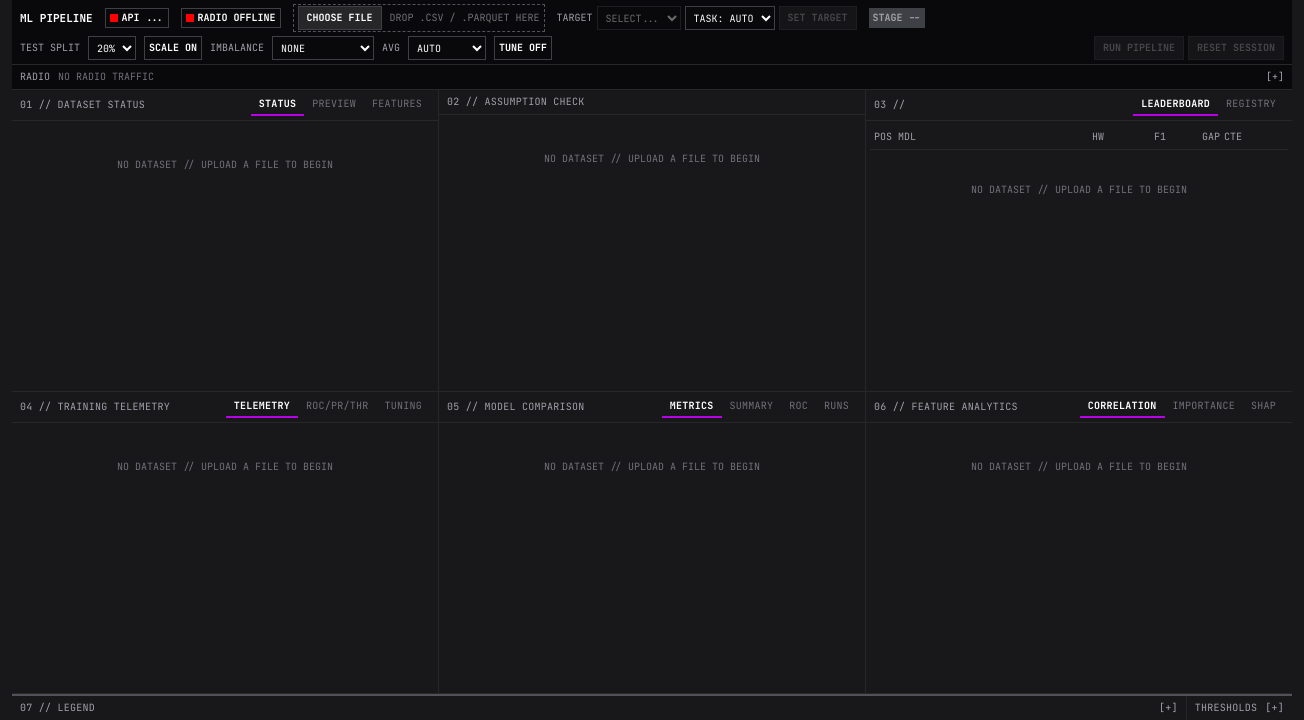
Test: empty dashboard › tuning is off by default and reveals a trials picker when switched on
The image size is (1304, 720).
Click the button with test id "opt-tune": (523, 48) [494,36,552,60]
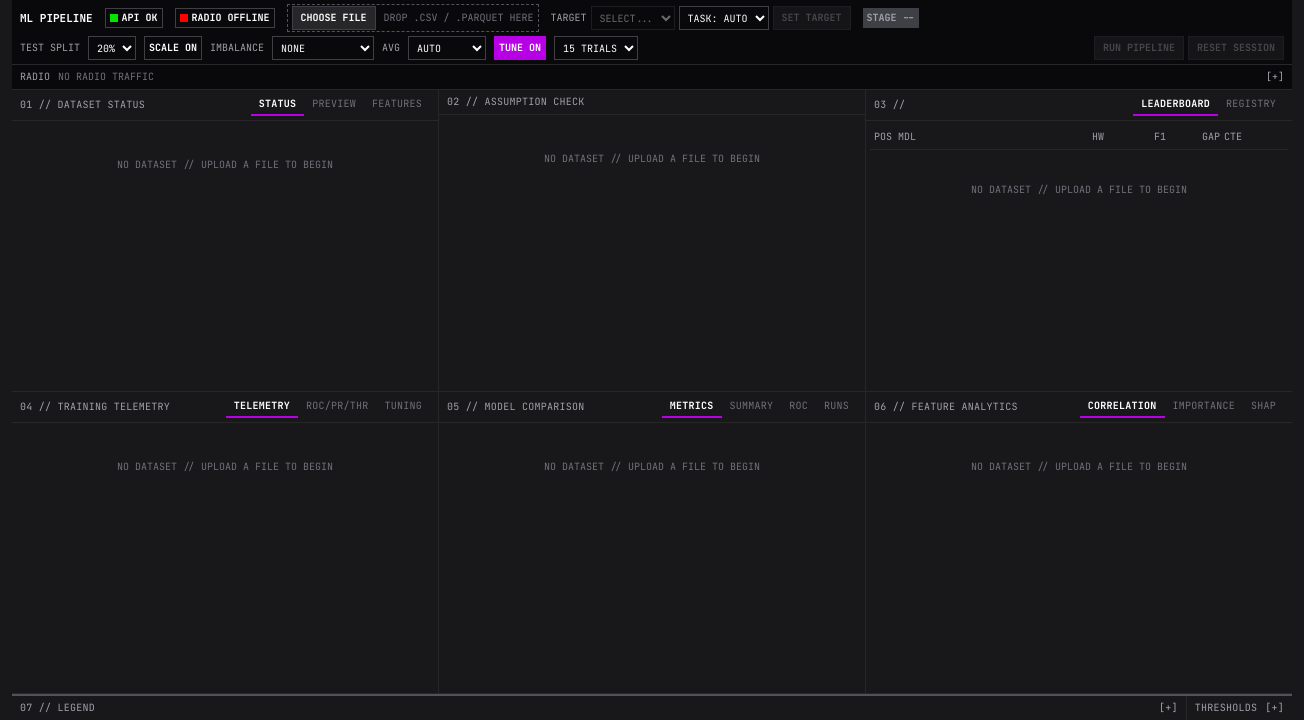
Now the button with test id "opt-tune" reads "TUNE ON", box [494,36,546,60]
Now the dropdown with test id "opt-trials" shows "15 TRIALS", box [554,36,638,60]
